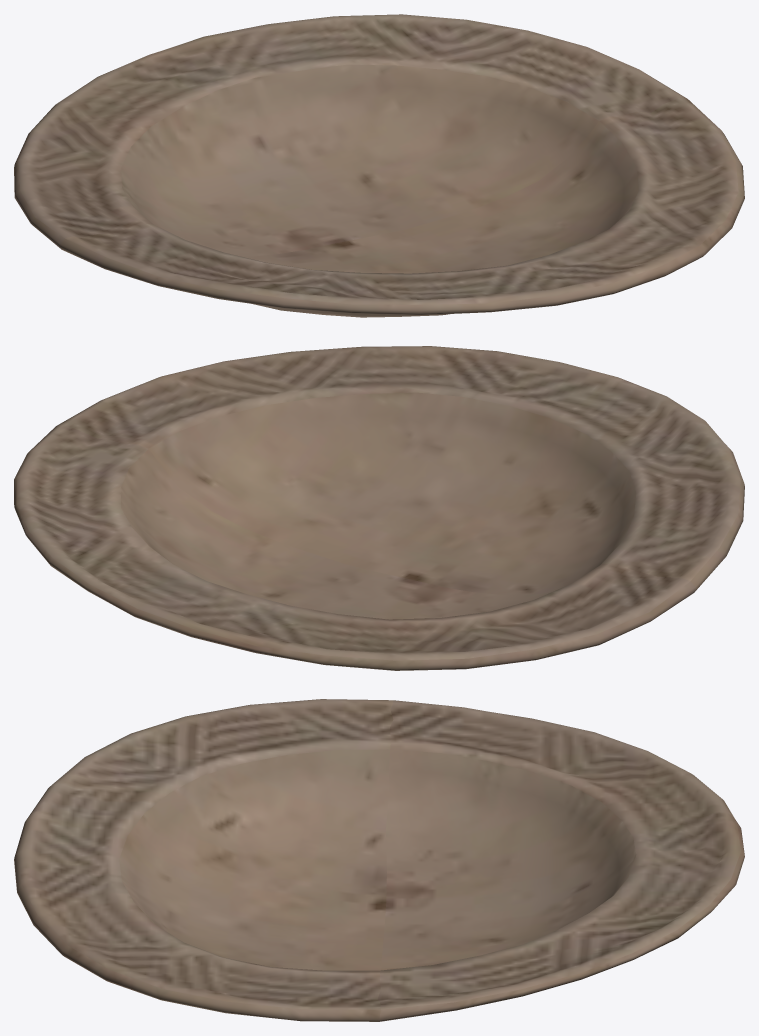
The model's file is carved_wooden_plate.glb.
3 renders of one model, top to bottom at view 1: azimuth 30°, elevation 25°; view 2: azimuth 150°, elevation 25°; view 3: azimuth 270°, elevation 25°, orthographic. The views are drawn at different scales.
Visible parts, largest first — view 1: carved_wooden_plate; view 2: carved_wooden_plate; view 3: carved_wooden_plate.
Part boxes in pixels (x1,y1,x2,y2): carved_wooden_plate: [14, 14, 744, 317]; carved_wooden_plate: [14, 346, 744, 670]; carved_wooden_plate: [14, 699, 744, 1021].
Size of the model in its own units: 0.2718 by 0.0381 by 0.2688.
1 material, 1 textured.
